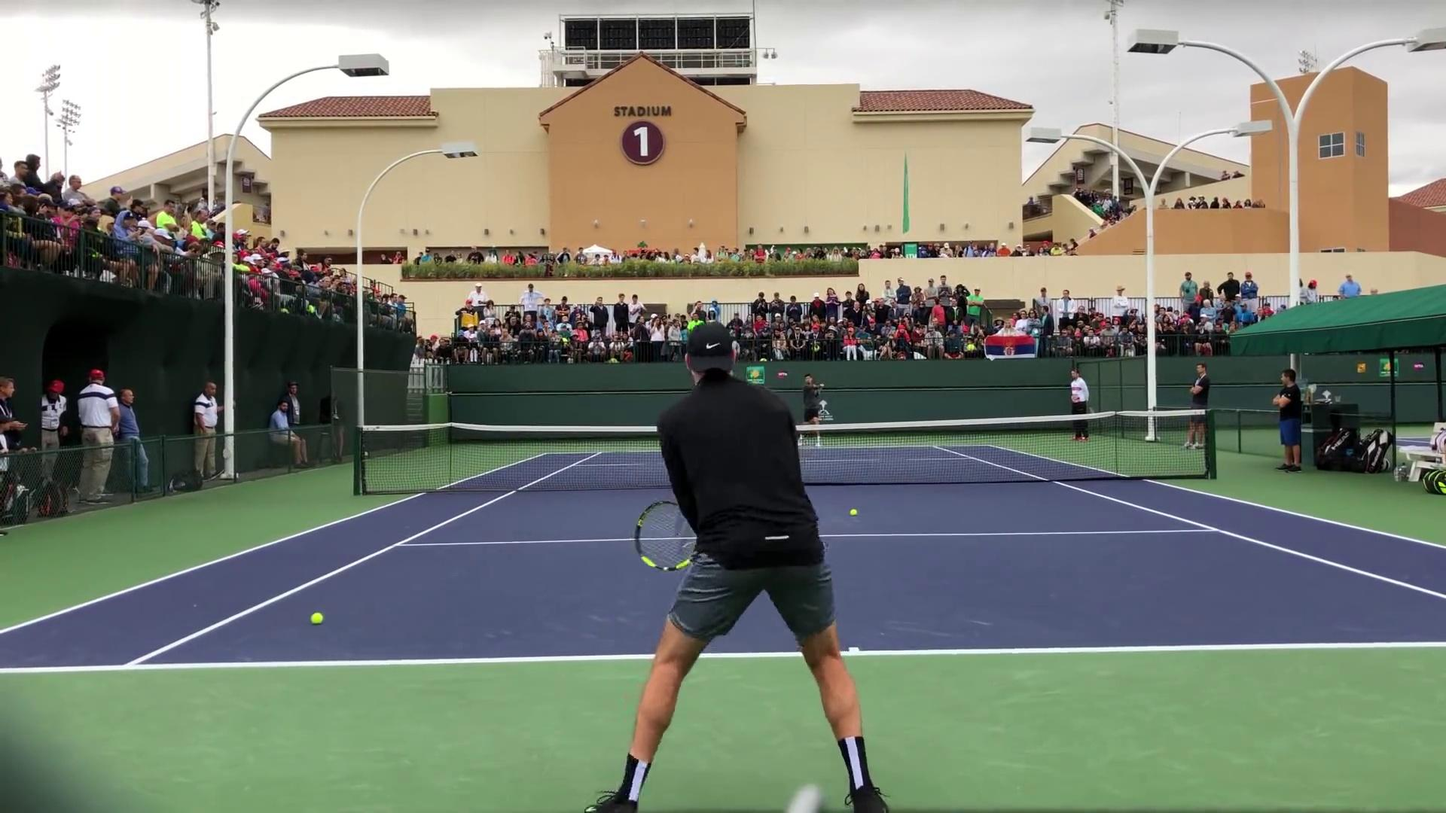ball: (310, 612, 323, 625), (848, 508, 859, 518), (955, 649, 963, 655)
